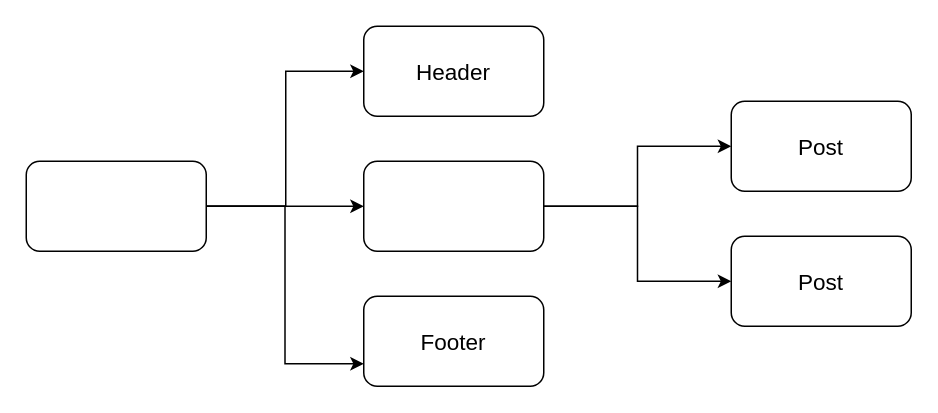
Image size: 938x413. Some labels were removed from this diagram. Here are the shapes that lost their labels. From the top down, the box of each, then its label:
(25, 160, 206, 251): App
(362, 160, 544, 251): Post List
